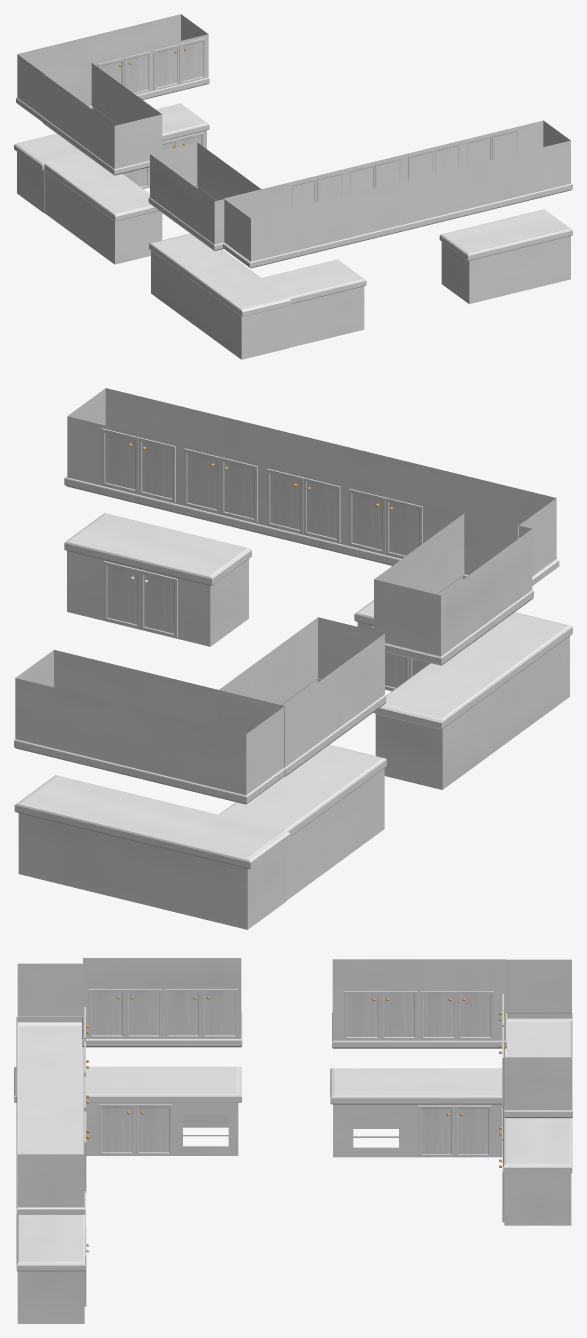
File: Estantes.fbx
3 views of the same model, one above another, from view 1: azimuth 30°, elevation 25°; view 2: azimuth 150°, elevation 25°; view 3: azimuth 270°, elevation 25° (orthographic). The views are drawn at different scales.
Parts seen in each view (by area): view 1: Estantes, Drawer; view 2: Estantes, Drawer; view 3: Estantes, Drawer.
Boxes of the visible parts, left/top/right/bottom form: Estantes: left=14, top=14, right=572, bottom=359; Drawer: left=97, top=38, right=518, bottom=208; Estantes: left=14, top=388, right=572, bottom=929; Drawer: left=101, top=428, right=429, bottom=690; Estantes: left=14, top=958, right=572, bottom=1323; Drawer: left=84, top=989, right=504, bottom=1306.
Bounding box in the file's own units: 3876 × 1550 × 4630.
